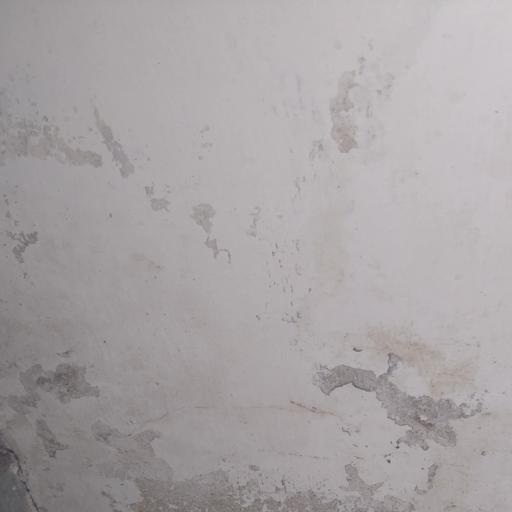peeling: (4, 82, 278, 316), (275, 320, 501, 467), (6, 340, 184, 507), (134, 447, 458, 512), (293, 43, 406, 186)
